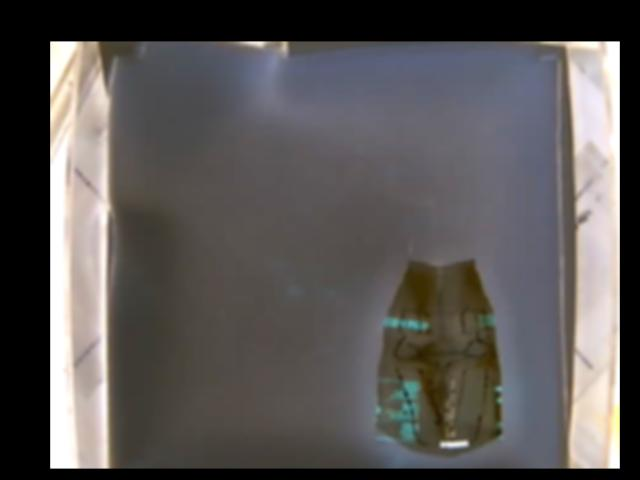Bottle: (374, 257, 505, 458)
